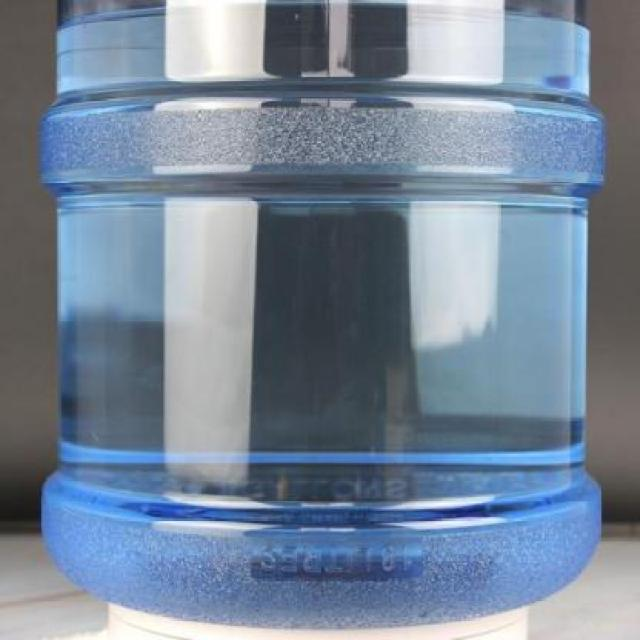coolerbottle: (20, 0, 618, 635)
